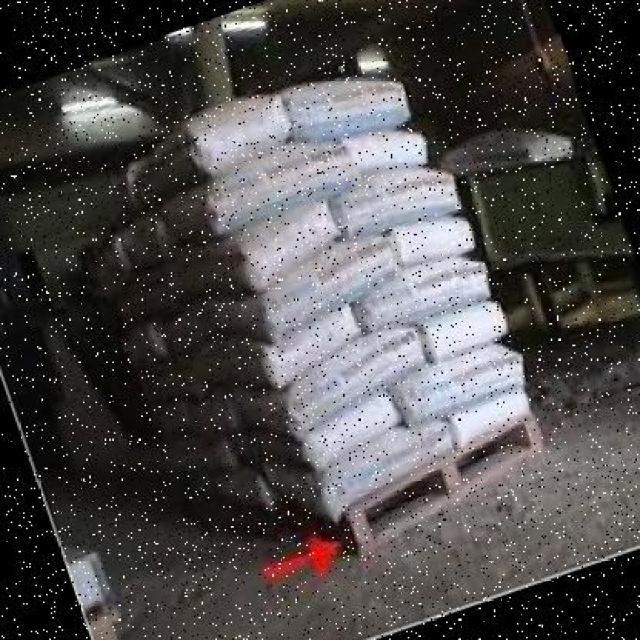gunny_bag: (285, 322, 428, 438), (198, 137, 362, 236), (258, 234, 408, 338), (315, 417, 461, 522), (394, 340, 525, 433), (329, 166, 466, 239), (299, 390, 406, 479), (358, 262, 493, 331), (239, 201, 336, 293), (265, 305, 365, 391), (183, 102, 296, 176), (284, 88, 410, 143), (412, 293, 509, 359), (445, 382, 531, 451), (394, 212, 478, 271), (335, 128, 430, 176)
